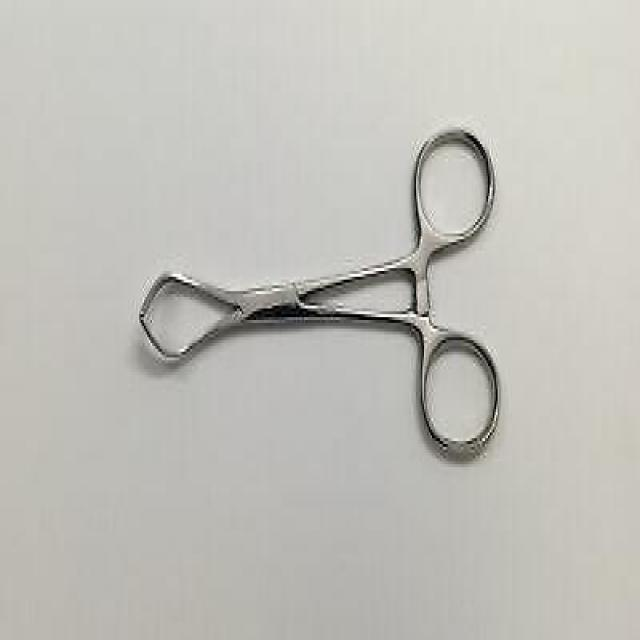Towel_clip: (138, 121, 504, 464)
